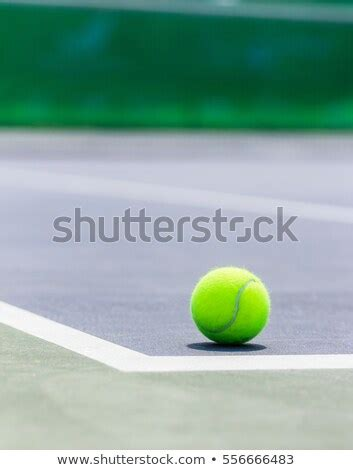tennis_ball: (190, 265, 271, 346)
